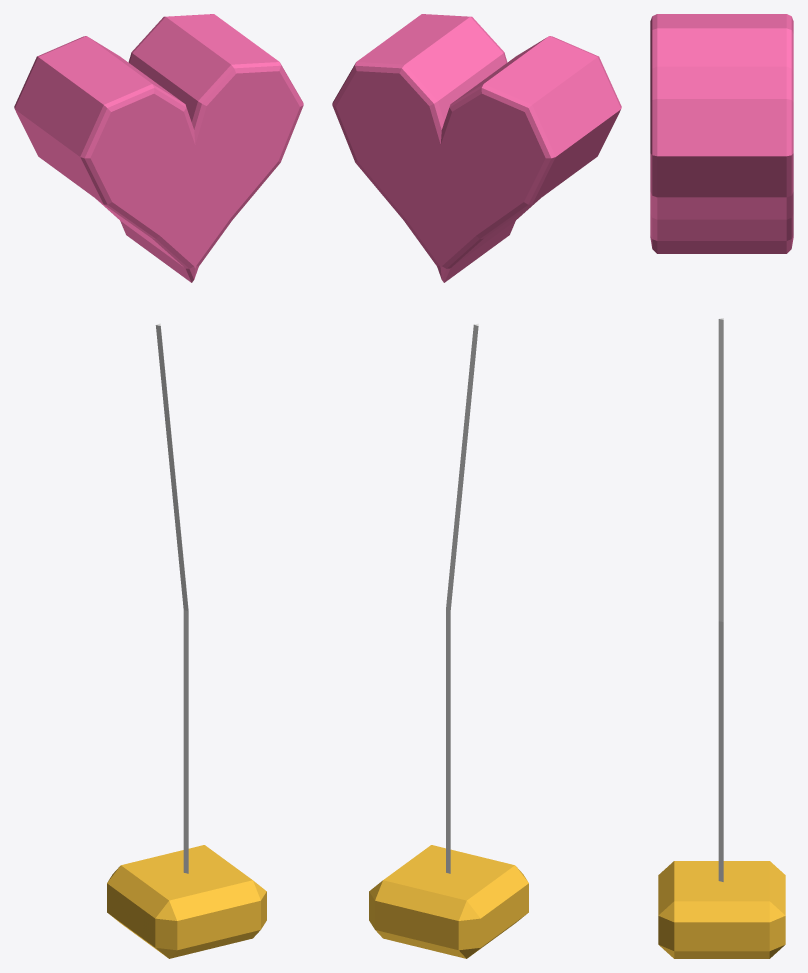
File: PinkHeartBalloon.fbx
3 views of the same model, side by side, from view 1: azimuth 30°, elevation 25°; view 2: azimuth 150°, elevation 25°; view 3: azimuth 270°, elevation 25° (orthographic).
Parts seen in each view (by area): view 1: PinkHeartBalloon; view 2: PinkHeartBalloon; view 3: PinkHeartBalloon.
Part boxes in pixels (x1,y1,x2,y2): PinkHeartBalloon: [14, 14, 303, 958]; PinkHeartBalloon: [332, 14, 621, 958]; PinkHeartBalloon: [650, 14, 793, 958].
Size of the model in its own units: 1.6 by 6.08 by 0.9.
Materials: 1 (1 with a texture image).
